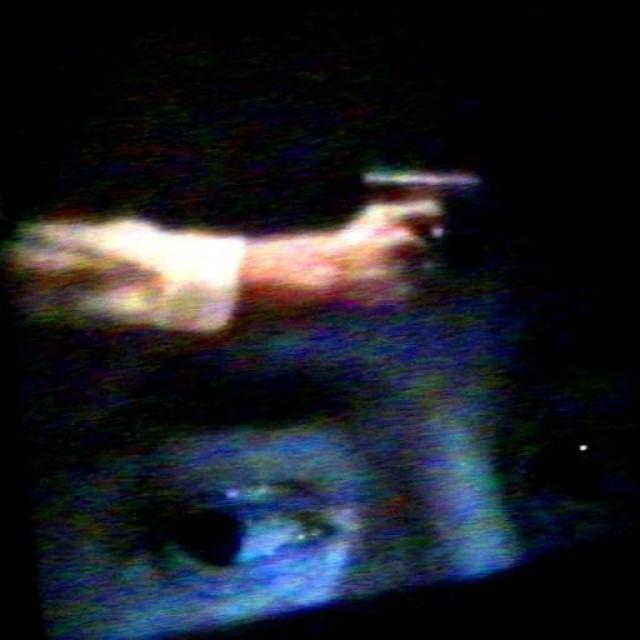gun: (351, 144, 491, 268)
